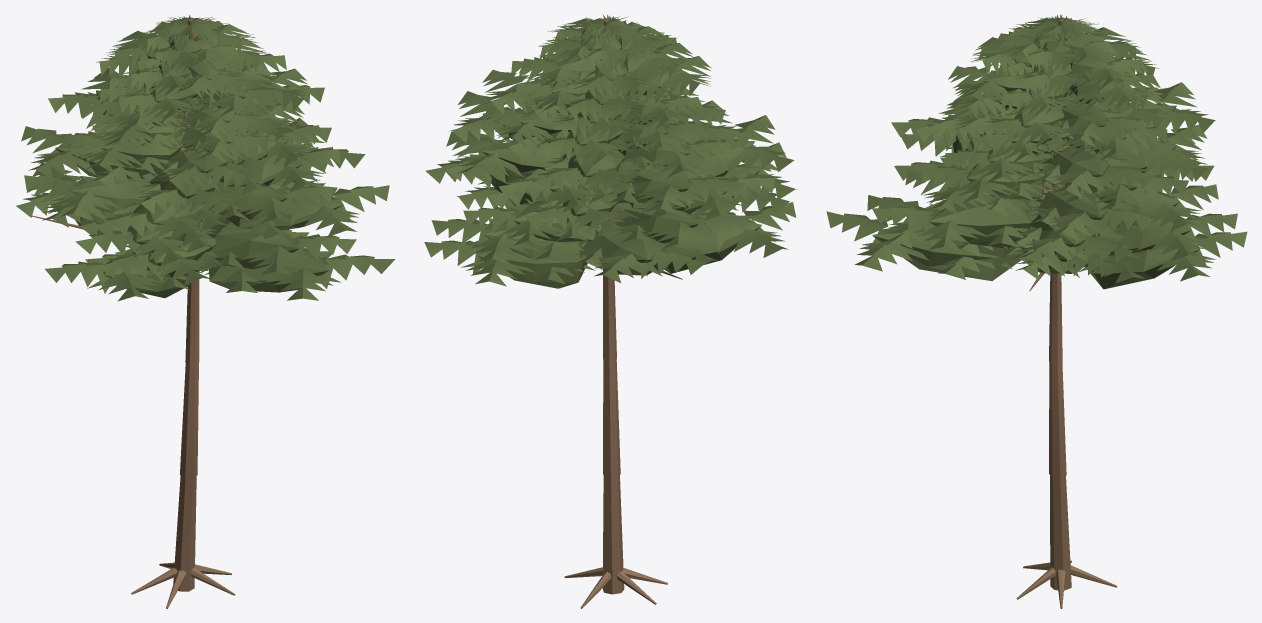
File: taiga-young-pine.glb
3 renders of one model, left to right at view 1: azimuth 30°, elevation 25°; view 2: azimuth 150°, elevation 25°; view 3: azimuth 270°, elevation 25°, orthographic.
Visible parts, largest first — view 1: Молодая сосна; view 2: Молодая сосна; view 3: Молодая сосна.
Part boxes in pixels (x1,y1,x2,y2): Молодая сосна: (16,15,395,608); Молодая сосна: (424,14,797,608); Молодая сосна: (826,14,1247,608).
Bounding box in the file's own units: 5.33 × 9.01 × 6.04.
